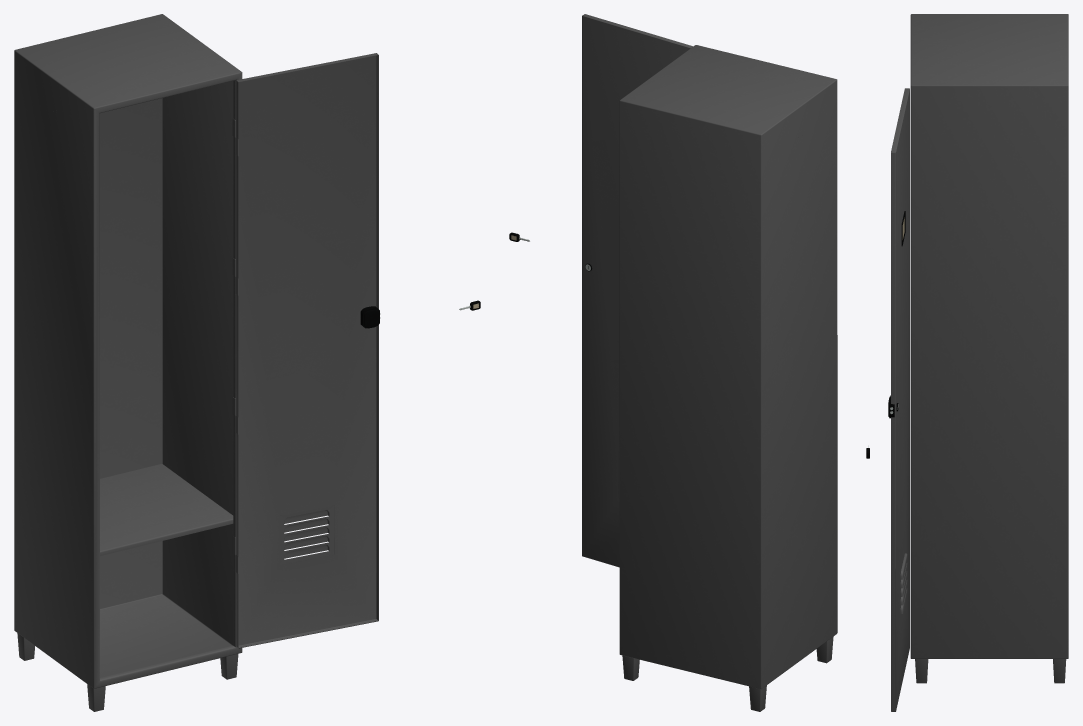
File: Locker 1.fbx
3 renders of one model, left to right at view 1: azimuth 30°, elevation 25°; view 2: azimuth 150°, elevation 25°; view 3: azimuth 270°, elevation 25°, orthographic. The views are drawn at different scales.
Parts seen in each view (by area): view 1: Locker, Locker_Door; view 2: Locker, Locker_Door; view 3: Locker, Locker_Door.
Part boxes in pixels (left/top/right/bottom): Locker: left=14, top=14, right=242, bottom=711; Locker_Door: left=235, top=53, right=380, bottom=648; Locker: left=619, top=45, right=837, bottom=711; Locker_Door: left=582, top=14, right=692, bottom=567; Locker: left=910, top=14, right=1068, bottom=683; Locker_Door: left=888, top=88, right=909, bottom=711.
Size of the model in its own units: 126 by 200 by 61.2.
